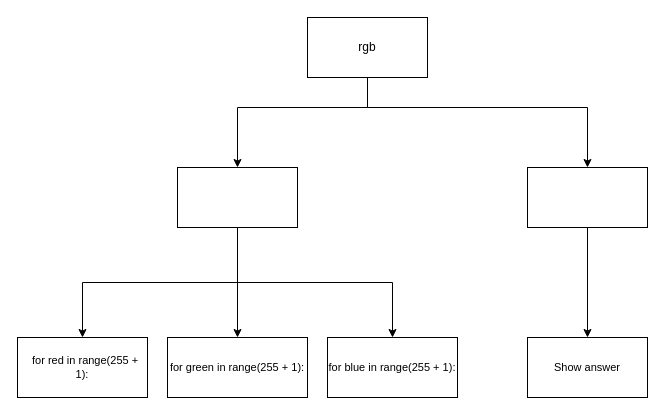
Image size: 665x415. Some labels were removed from this diagram. The centre of each missing label's shape, as x and y in pixels:
"Output" belongs at [587,197].
"Process" belongs at [237,197].
